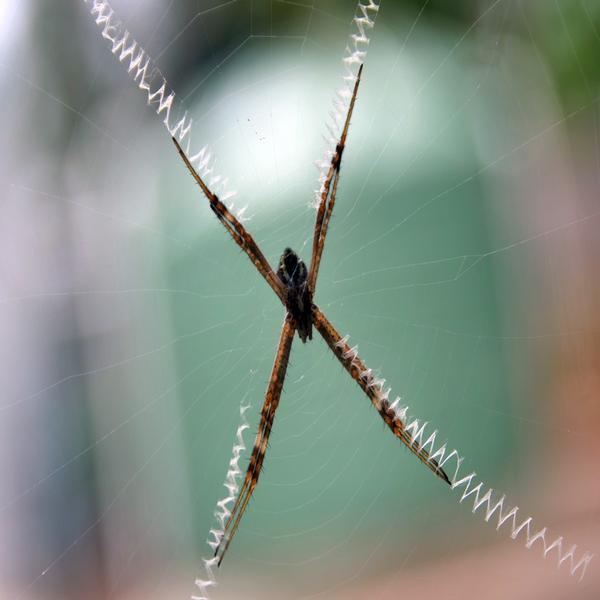St Andrew's Cross Spider: (173, 64, 452, 572)
